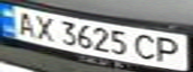2: (90, 25, 112, 54)
3: (54, 19, 78, 47)
5: (109, 27, 133, 57)
6: (75, 21, 93, 51)
A: (9, 9, 39, 37)
C: (130, 32, 160, 62)
P: (151, 35, 187, 65)
X: (30, 12, 60, 43)
